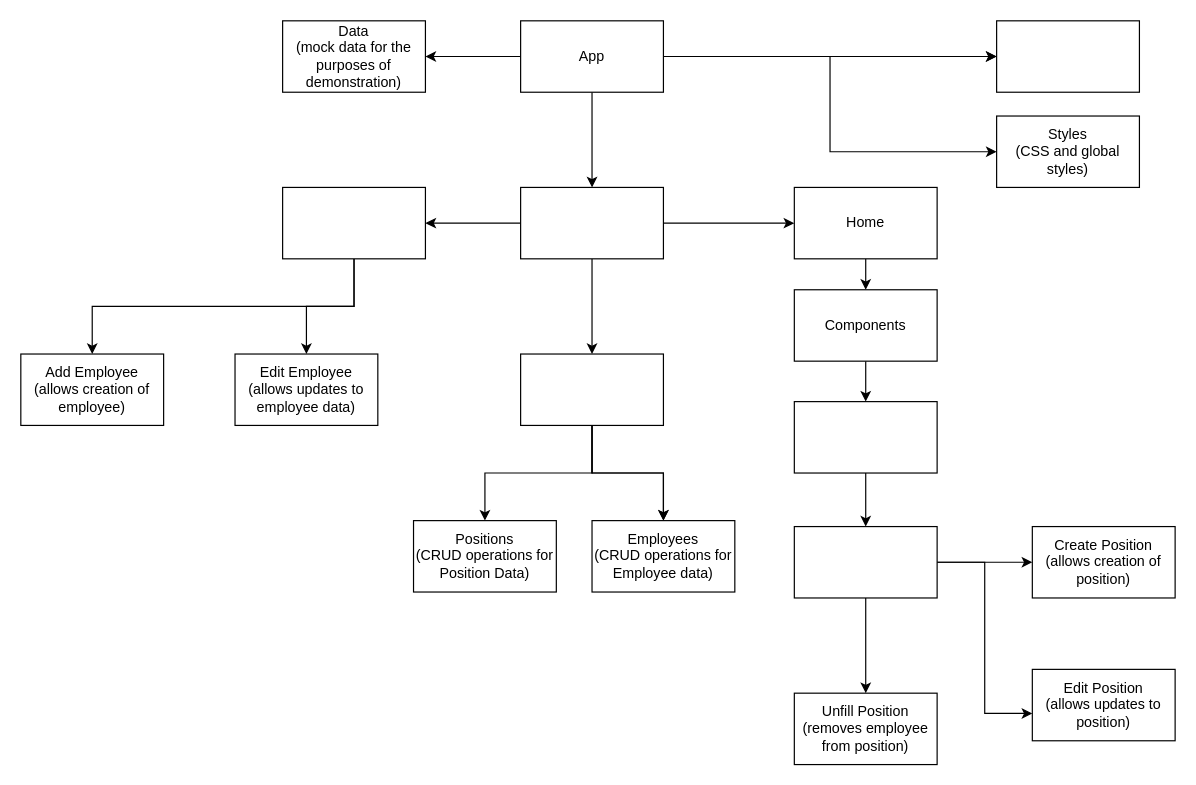
The diagram is 1196 pixels wide and 785 high, and some of its shapes have lost their labels. The box of each missing label's shape, as (x1, y1, x2, y2) in pixels:
API: (519, 353, 663, 425)
Employees (displays data in table with manage actions): (281, 186, 425, 259)
Org Chart (Displays position in a tree like hierarchy): (793, 400, 937, 473)
Pages: (519, 186, 663, 259)
Position Badge (Displays position and employee info): (793, 525, 937, 598)
Utils (handy functions and separation of concerns): (995, 20, 1139, 92)
